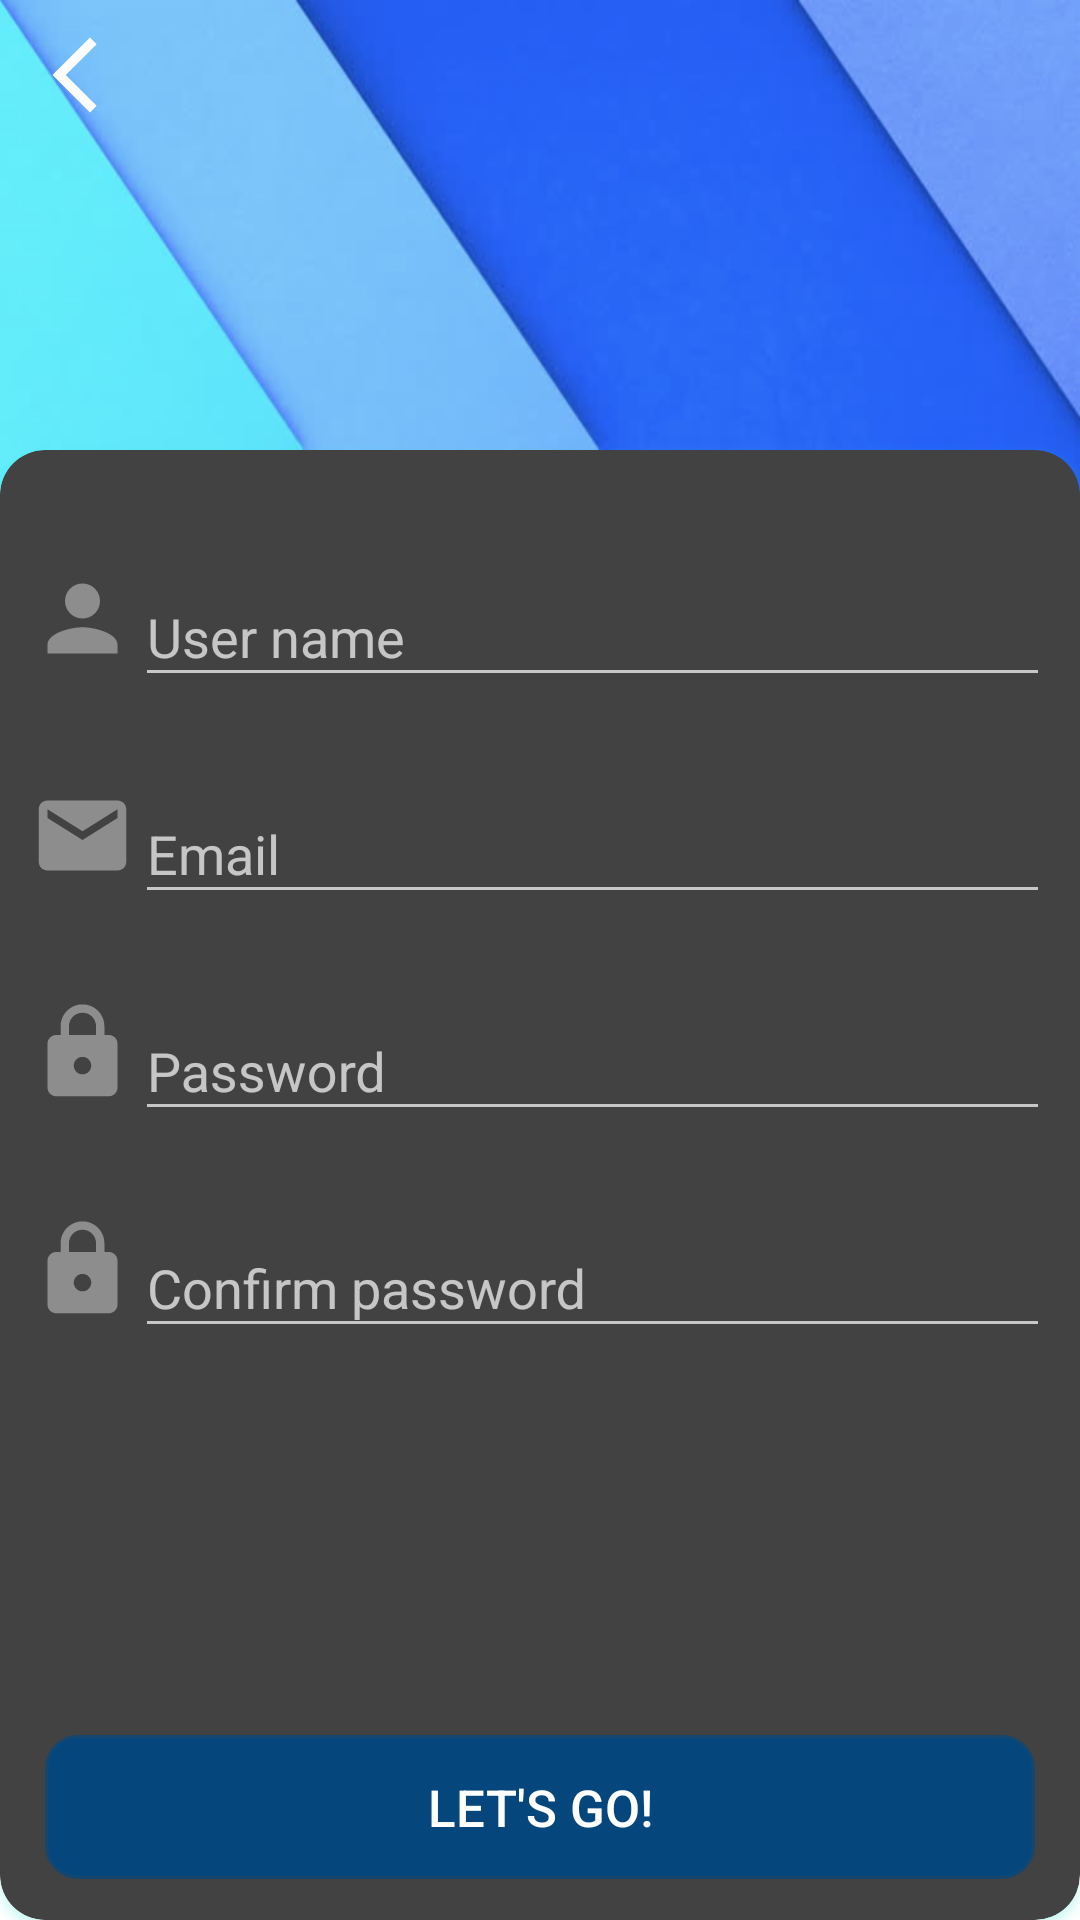

Point at icon controls on the screen. Image size 1080 × 1920, points as (x,y).
arrow back: (75,75)
lock: (82,1050), (82,1267)
person: (82,618)
